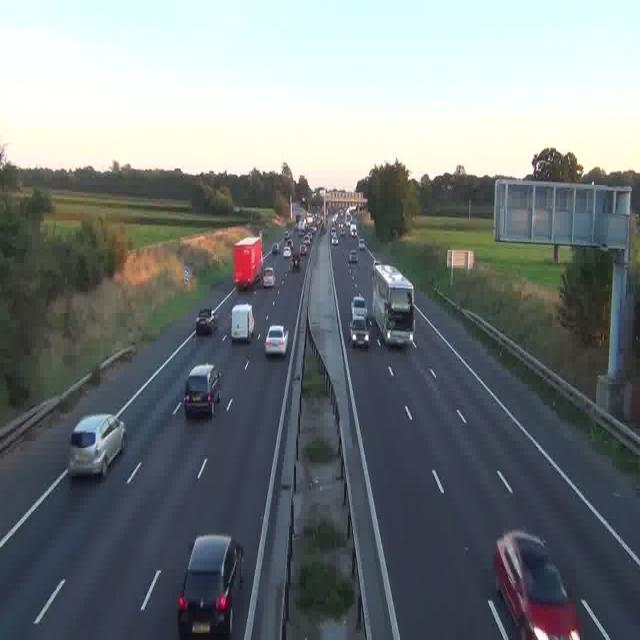car: (494, 530, 581, 639), (178, 536, 245, 640), (68, 414, 125, 476), (183, 363, 221, 418), (348, 296, 370, 345), (229, 302, 255, 342), (264, 326, 288, 356), (194, 307, 216, 334), (262, 269, 275, 288), (290, 255, 301, 270), (364, 248, 375, 263), (348, 250, 357, 264), (273, 242, 281, 255), (300, 244, 308, 256), (331, 234, 339, 245)
truck: (370, 265, 414, 346), (234, 237, 262, 288)
